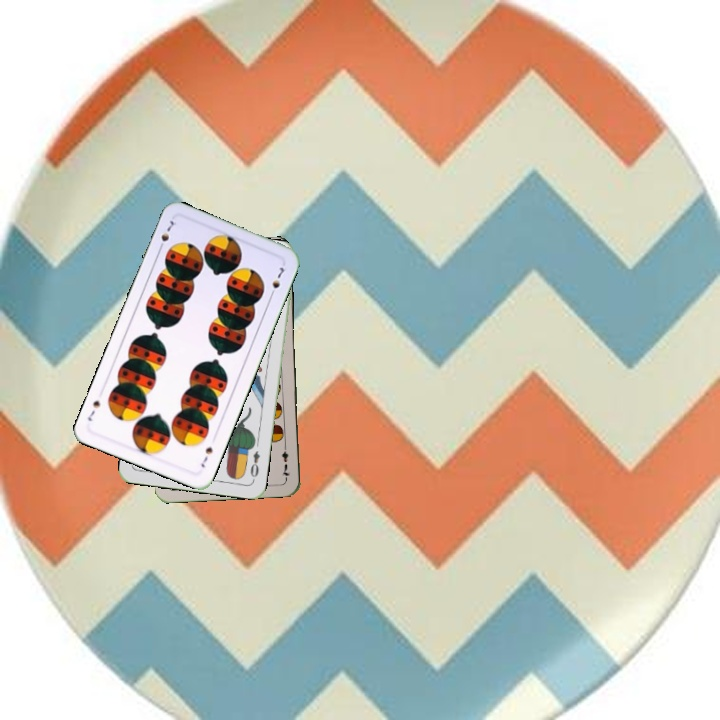E7: (278, 440, 292, 480)
EO: (246, 447, 263, 480)
S7: (154, 215, 179, 253), (197, 443, 215, 470)
